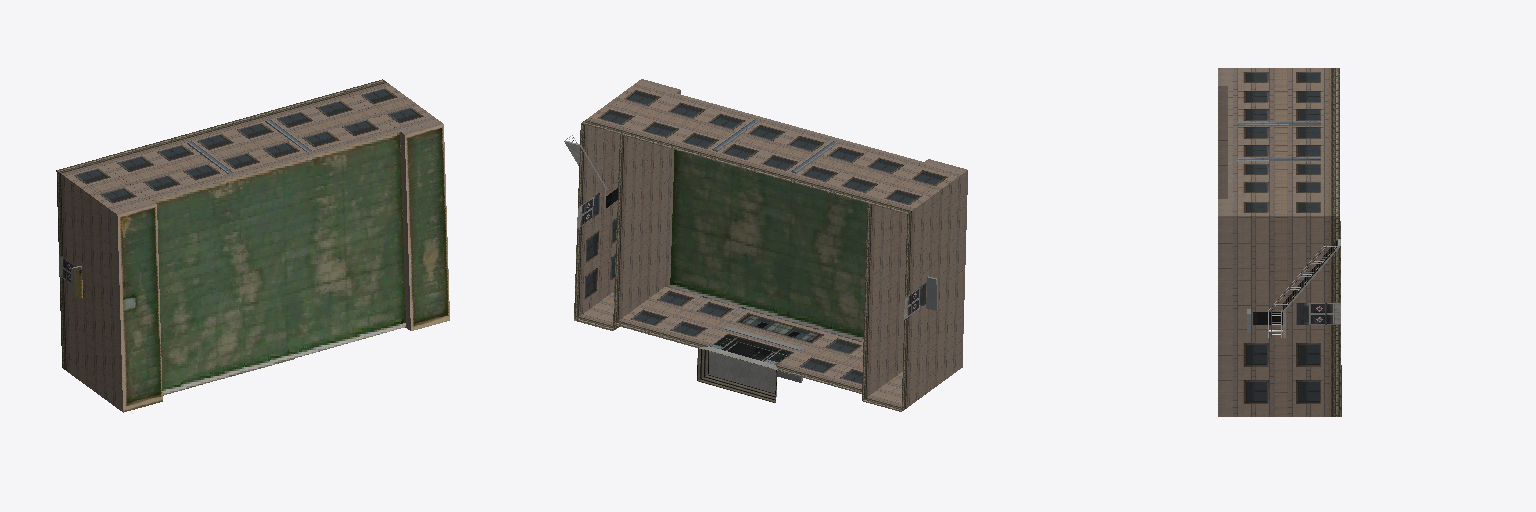
3 views of the same model, side by side, from view 1: azimuth 30°, elevation 25°; view 2: azimuth 150°, elevation 25°; view 3: azimuth 270°, elevation 25° (orthographic).
Visible parts, largest first — view 1: Group_MatrixTransform_i95001_Geometry_8, Group_MatrixTransform_i95001_Geometry_5, Group_MatrixTransform_i95001_Geometry_4, Group_MatrixTransform_i95001_Geometry_10, Group_MatrixTransform_i95001_Geometry_9, Group_MatrixTransform_i95001_Geometry_0; view 2: Group_MatrixTransform_i95001_Geometry_4, Group_MatrixTransform_i95001_Geometry_5, Group_MatrixTransform_i95001_Geometry_8, Group_MatrixTransform_i95001_Geometry_3, Group_MatrixTransform_i95001_Geometry_15, Group_MatrixTransform_i95001_Geometry_0, Group_MatrixTransform_i95001_Geometry_13, Group_MatrixTransform_i95001_Geometry_12, Group_MatrixTransform_i95001_Geometry_1; view 3: Group_MatrixTransform_i95001_Geometry_5, Group_MatrixTransform_i95001_Geometry_4, Group_MatrixTransform_i95001_Geometry_0.
Part boxes in pixels (left/top/right/bottom): Group_MatrixTransform_i95001_Geometry_8: left=152, top=132, right=405, bottom=395; Group_MatrixTransform_i95001_Geometry_5: left=57, top=79, right=442, bottom=214; Group_MatrixTransform_i95001_Geometry_4: left=56, top=91, right=410, bottom=411; Group_MatrixTransform_i95001_Geometry_10: left=117, top=204, right=162, bottom=412; Group_MatrixTransform_i95001_Geometry_9: left=405, top=124, right=449, bottom=330; Group_MatrixTransform_i95001_Geometry_0: left=59, top=250, right=120, bottom=324; Group_MatrixTransform_i95001_Geometry_4: left=574, top=90, right=967, bottom=411; Group_MatrixTransform_i95001_Geometry_5: left=574, top=79, right=966, bottom=393; Group_MatrixTransform_i95001_Geometry_8: left=670, top=150, right=867, bottom=341; Group_MatrixTransform_i95001_Geometry_3: left=699, top=311, right=826, bottom=369; Group_MatrixTransform_i95001_Geometry_15: left=564, top=140, right=776, bottom=402; Group_MatrixTransform_i95001_Geometry_0: left=577, top=189, right=965, bottom=323; Group_MatrixTransform_i95001_Geometry_13: left=710, top=334, right=793, bottom=364; Group_MatrixTransform_i95001_Geometry_12: left=664, top=121, right=937, bottom=382; Group_MatrixTransform_i95001_Geometry_1: left=697, top=348, right=776, bottom=402; Group_MatrixTransform_i95001_Geometry_5: left=1218, top=68, right=1341, bottom=403; Group_MatrixTransform_i95001_Geometry_4: left=1218, top=86, right=1341, bottom=416; Group_MatrixTransform_i95001_Geometry_0: left=1286, top=303, right=1340, bottom=324.
Size of the model in its own units: 30.27 by 19.04 by 9.15.
Materials: 17 (17 with a texture image).